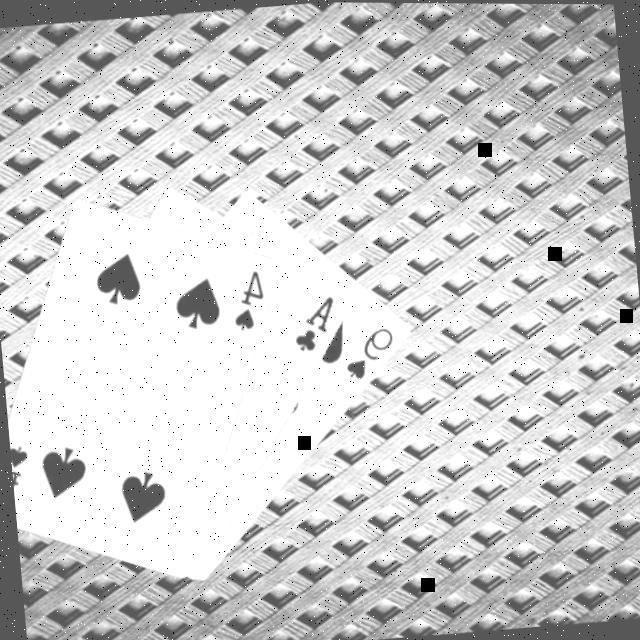4S: (226, 262, 270, 331), (9, 438, 35, 505)
9S: (338, 319, 398, 382)
AC: (286, 289, 341, 353)
